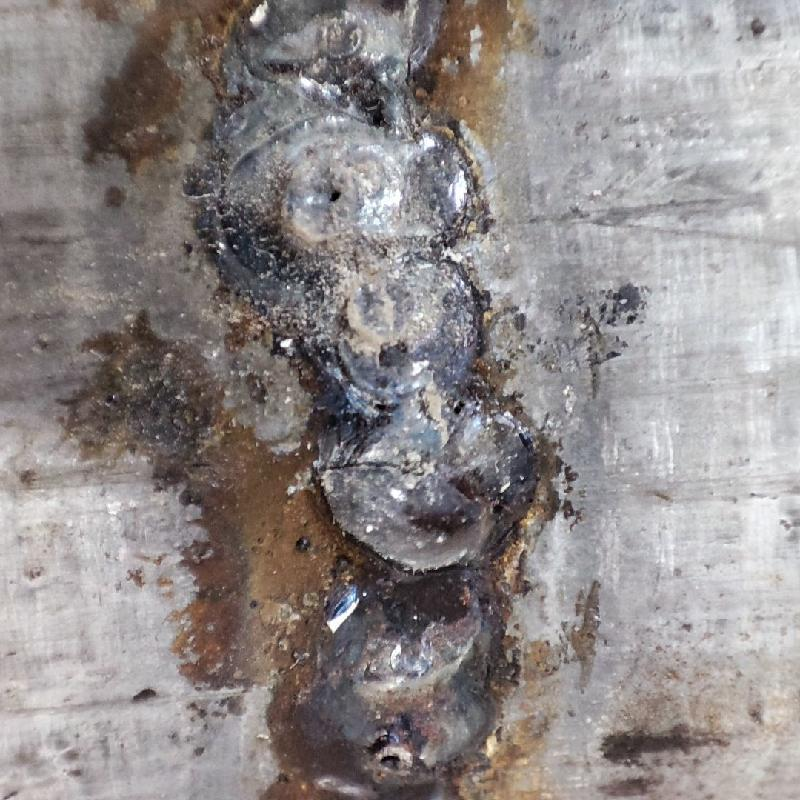Not_fully_soldered: (222, 5, 494, 552)
Surface_pores: (318, 174, 362, 219)
